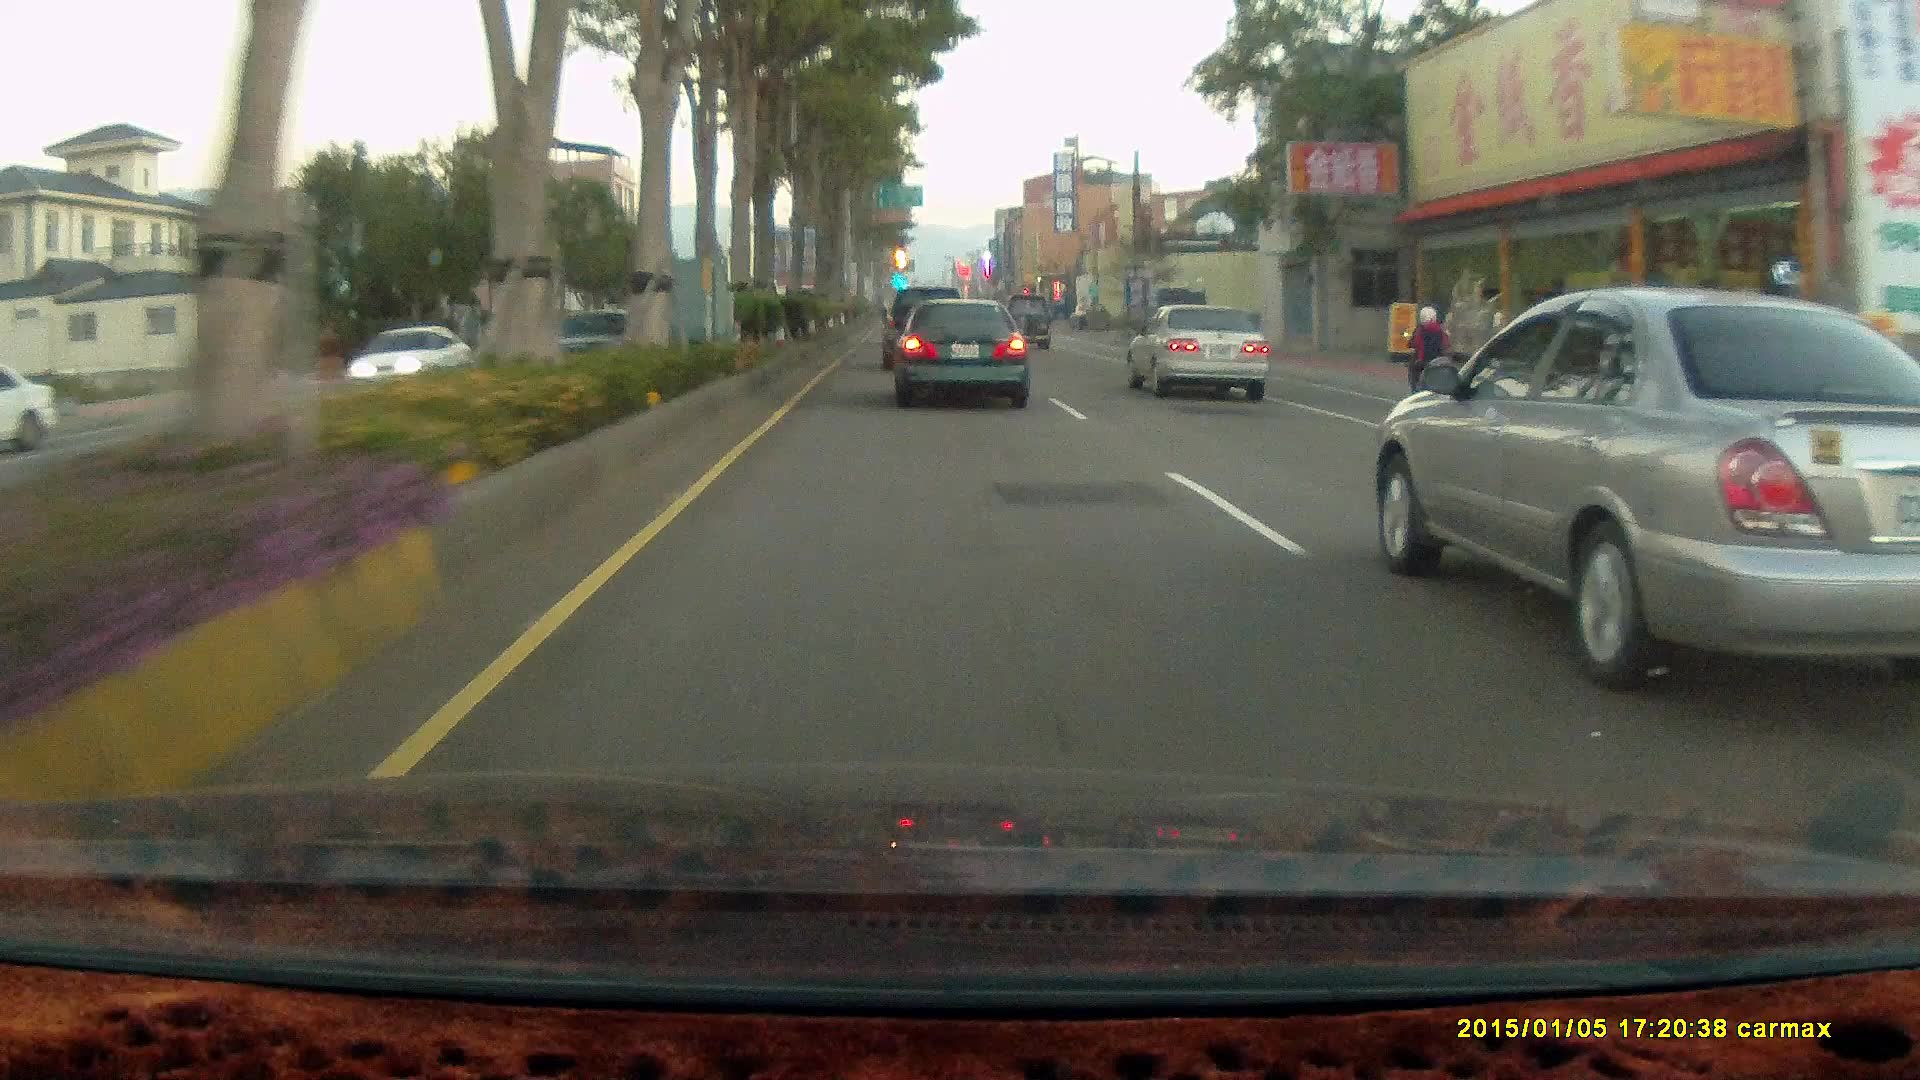rider: (1389, 297, 1466, 419), (1397, 301, 1458, 411)
vehicle: (1364, 289, 1920, 699), (892, 294, 1034, 413), (887, 296, 1027, 408), (1123, 304, 1275, 408), (1123, 300, 1267, 399), (345, 321, 474, 391), (345, 321, 474, 387), (883, 283, 972, 369), (882, 287, 964, 370), (1, 361, 62, 459), (1143, 287, 1207, 348), (1003, 290, 1052, 350)
